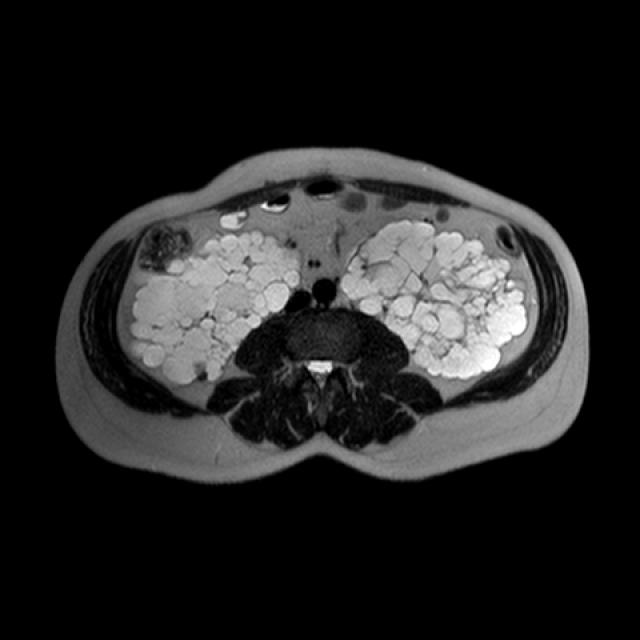sag: (128, 229, 303, 386)
sol: (338, 219, 525, 381)
